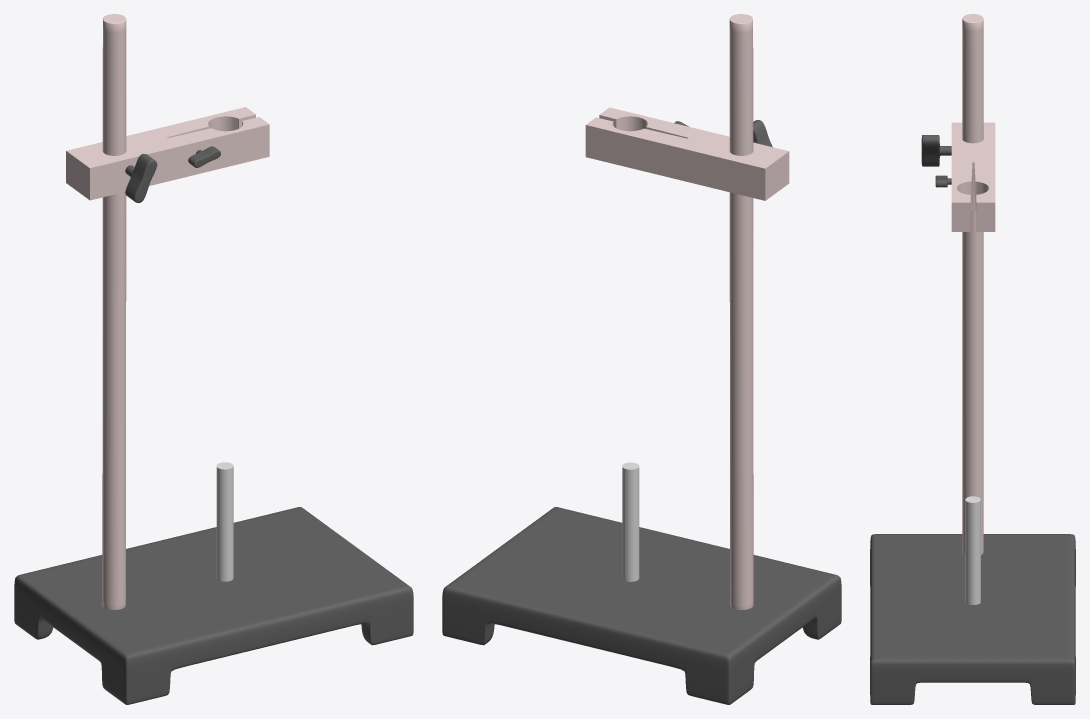
The model's file is штатив_магнит.fbx.
The picture shows the model from 3 angles, left to right: view 1: azimuth 30°, elevation 25°; view 2: azimuth 150°, elevation 25°; view 3: azimuth 270°, elevation 25°; orthographic projection. The views are drawn at different scales.
Visible parts, largest first — view 1: polySurface2, polySurface1, pCube4, Cylinder, polySurface5; view 2: polySurface2, polySurface1, pCube4, Cylinder; view 3: polySurface2, polySurface1, pCube4, Cylinder, polySurface5.
Part boxes in pixels (x1=…): polySurface2: x1=14, y1=507, x2=413, y2=704; polySurface1: x1=102, y1=14, x2=126, y2=609; pCube4: x1=66, y1=107, x2=269, y2=200; Cylinder: x1=216, y1=462, x2=233, y2=581; polySurface5: x1=125, y1=154, x2=157, y2=202; polySurface2: x1=442, y1=507, x2=841, y2=704; polySurface1: x1=729, y1=14, x2=753, y2=609; pCube4: x1=585, y1=107, x2=789, y2=200; Cylinder: x1=622, y1=462, x2=639, y2=581; polySurface2: x1=870, y1=534, x2=1075, y2=704; polySurface1: x1=962, y1=14, x2=983, y2=554; pCube4: x1=951, y1=122, x2=995, y2=231; Cylinder: x1=965, y1=496, x2=980, y2=604; polySurface5: x1=921, y1=135, x2=951, y2=166.
Bounding box in the file's own units: 163 × 343 × 110.
